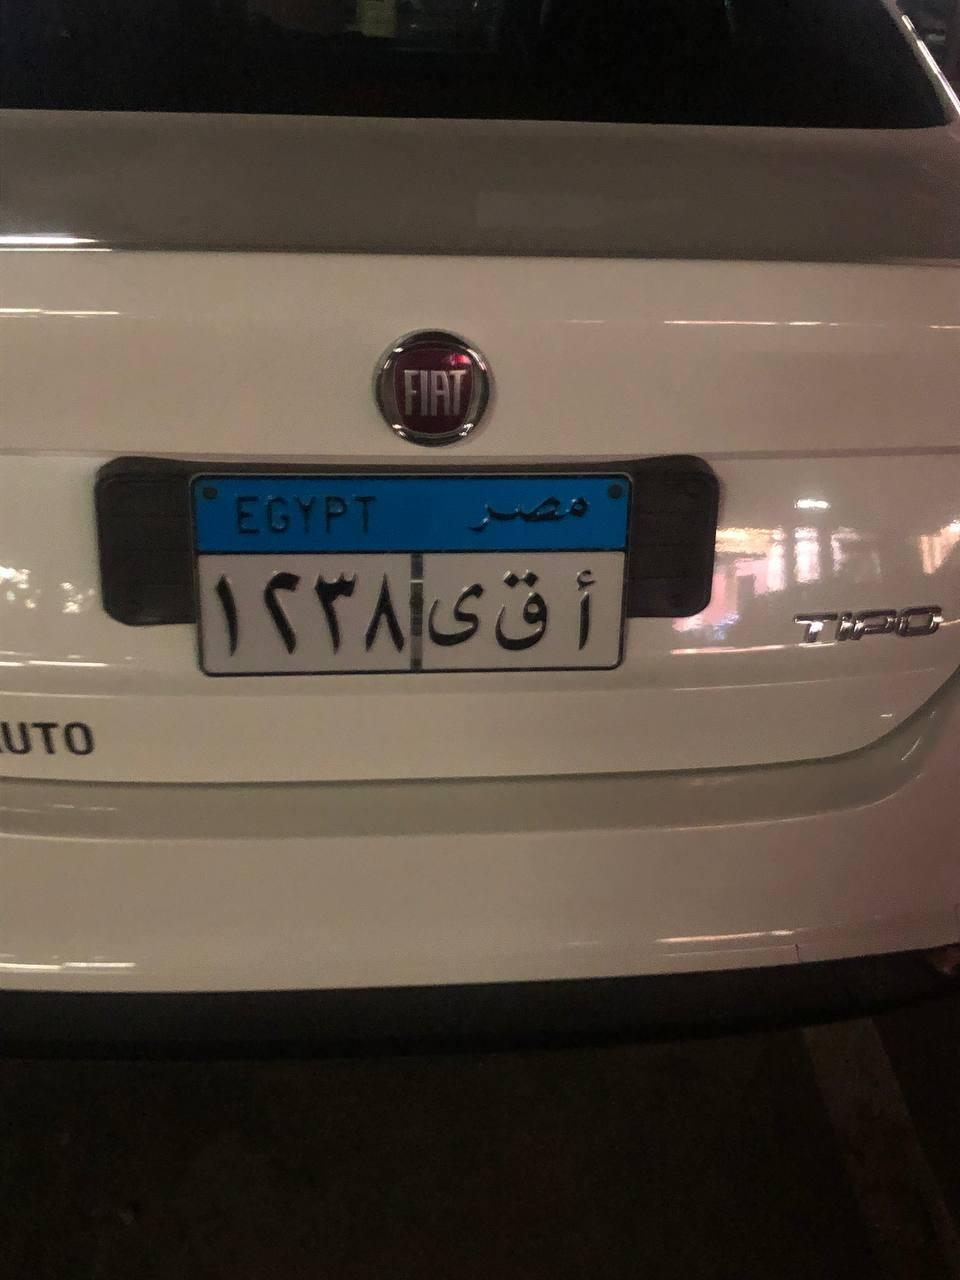1: (212, 568, 250, 660)
2: (259, 566, 310, 652)
3: (315, 570, 359, 652)
8: (362, 576, 410, 656)
License Plate: (187, 464, 636, 690)
Q: (490, 570, 558, 656)
Yeeh: (429, 584, 487, 649)
alef: (572, 562, 600, 652)
